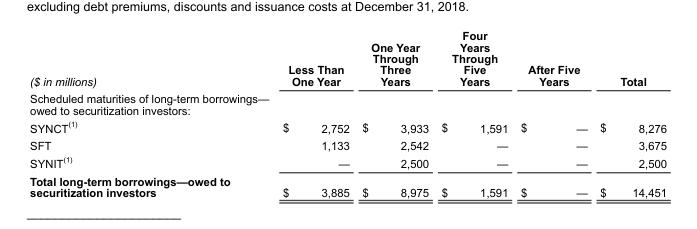table: (29, 29, 666, 198)
table column: (29, 29, 255, 198), (255, 29, 355, 198), (513, 29, 593, 198), (355, 29, 434, 198), (434, 29, 513, 198), (593, 29, 666, 198)
table column header: (29, 29, 666, 89)
table projected row header: (29, 89, 666, 117)
table row: (29, 29, 666, 89), (29, 89, 666, 117), (29, 171, 666, 198), (29, 117, 666, 136), (29, 153, 666, 171), (29, 136, 666, 153)
